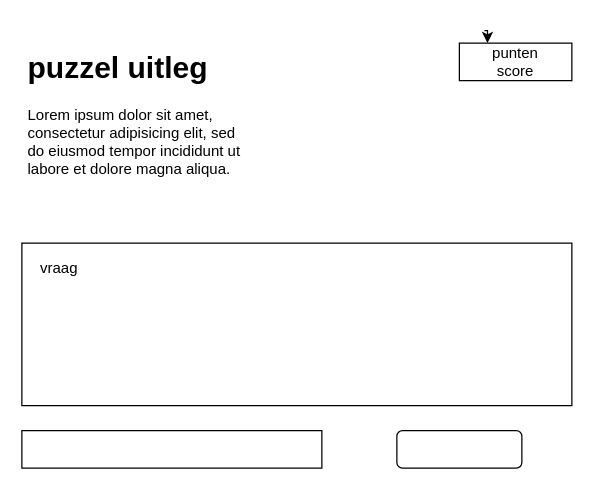
Image size: 594x490. Some labels were removed from this diagram. The centre of each missing label's shape, as x and y in pixels:
input field: the point at 171,448
Submit button: the point at 459,448
